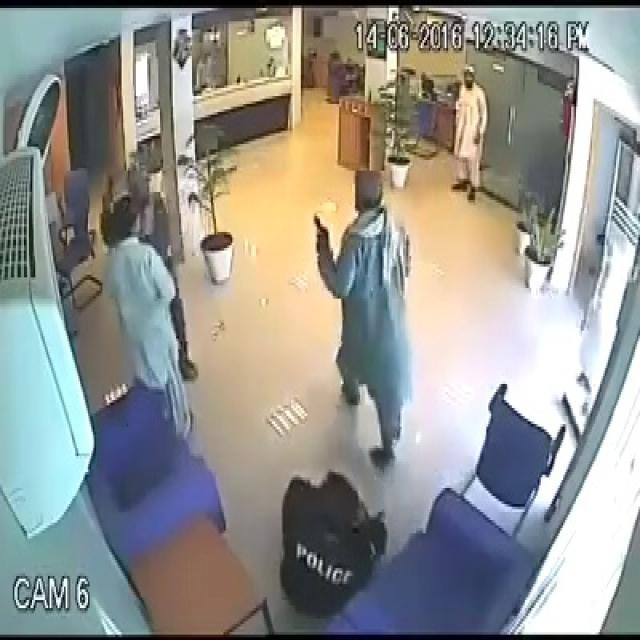weapon: (309, 208, 328, 245), (99, 173, 115, 206)
